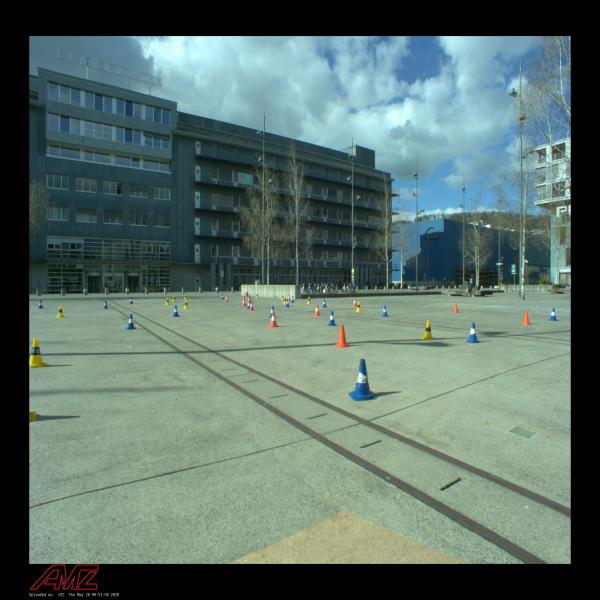blue_cone: (348, 359, 377, 401), (465, 322, 481, 343), (126, 314, 137, 330), (327, 311, 337, 326), (548, 308, 558, 321), (173, 305, 180, 317), (269, 306, 276, 318), (381, 305, 388, 317), (38, 300, 44, 309), (103, 301, 109, 309), (246, 300, 251, 309), (285, 299, 290, 307), (322, 299, 327, 307), (130, 297, 134, 304), (290, 296, 294, 303), (220, 294, 225, 299), (248, 295, 252, 301)
orange_cone: (336, 325, 349, 348), (268, 312, 278, 327), (522, 311, 532, 325), (248, 301, 255, 311), (314, 305, 320, 316), (453, 302, 459, 312), (241, 298, 247, 306), (352, 298, 358, 306), (225, 295, 229, 302), (247, 297, 251, 304), (287, 294, 291, 300), (243, 292, 246, 298)
yellow_cone: (30, 338, 49, 368), (421, 320, 435, 340), (56, 306, 65, 318), (355, 301, 362, 312), (184, 300, 190, 309), (165, 297, 170, 305), (307, 296, 311, 305), (183, 294, 188, 300), (172, 295, 176, 302), (283, 297, 287, 304), (280, 294, 284, 300), (256, 293, 258, 298)
